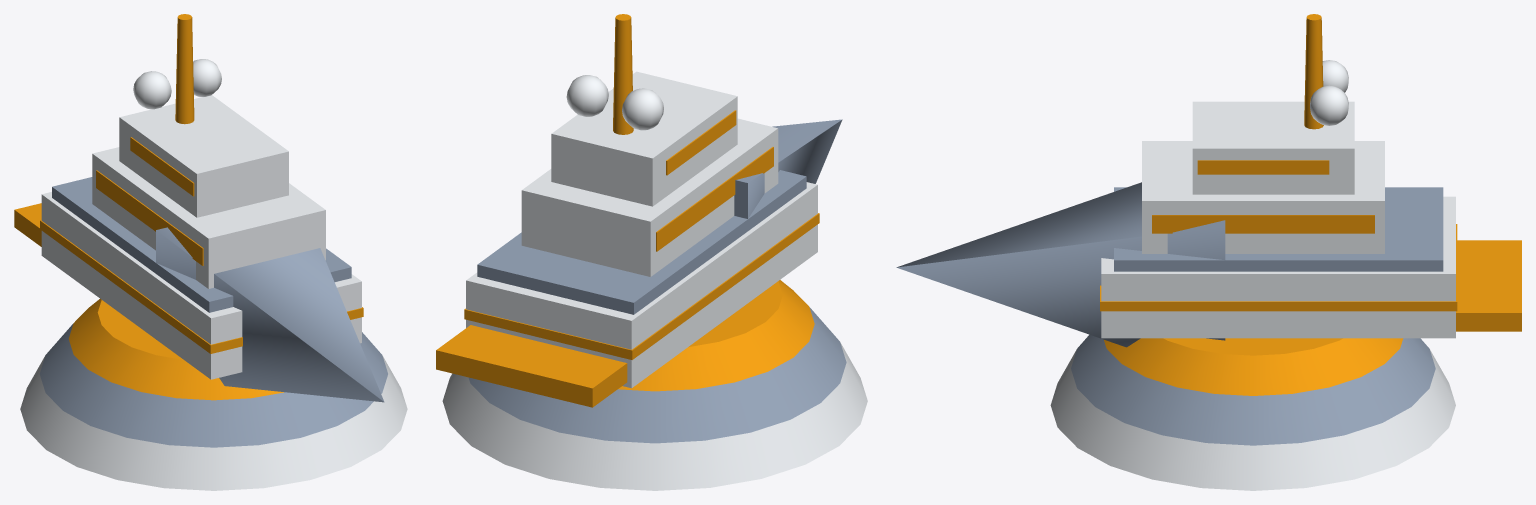
File: pawn_yacht.glb
3 renders of one model, left to right at view 1: azimuth 30°, elevation 25°; view 2: azimuth 150°, elevation 25°; view 3: azimuth 270°, elevation 25°, orthographic. The views are drawn at different scales.
Visible parts, largest first — view 1: Pawn_Yacht_Superyacht; view 2: Pawn_Yacht_Superyacht; view 3: Pawn_Yacht_Superyacht.
Boxes of the visible parts, x1,y1,x2,y2 form: Pawn_Yacht_Superyacht: (14,14,407,490); Pawn_Yacht_Superyacht: (436,14,867,490); Pawn_Yacht_Superyacht: (896,14,1521,490).
Size of the model in its own units: 0.8 by 0.845 by 1.23.
